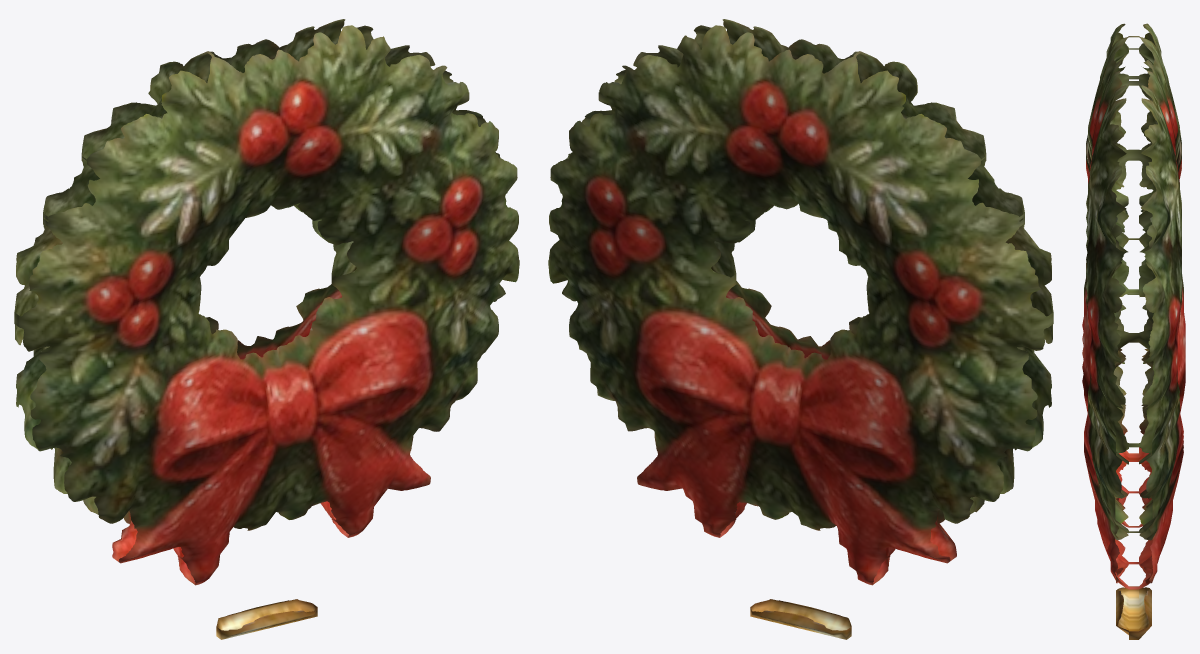
Rendered from Item_wreath.glb.
3 renders of one model, left to right at view 1: azimuth 30°, elevation 25°; view 2: azimuth 150°, elevation 25°; view 3: azimuth 270°, elevation 25°, orthographic. The views are drawn at different scales.
Visible parts, largest first — view 1: Item_wreath carving; view 2: Item_wreath carving; view 3: Item_wreath carving.
Boxes of the visible parts, x1,y1,x2,y2 form: Item_wreath carving: (14,19,519,639); Item_wreath carving: (548,19,1053,639); Item_wreath carving: (1082,23,1185,639).
Bounding box in the file's own units: 0.3269 × 0.3667 × 0.062.
1 material, 1 textured.
